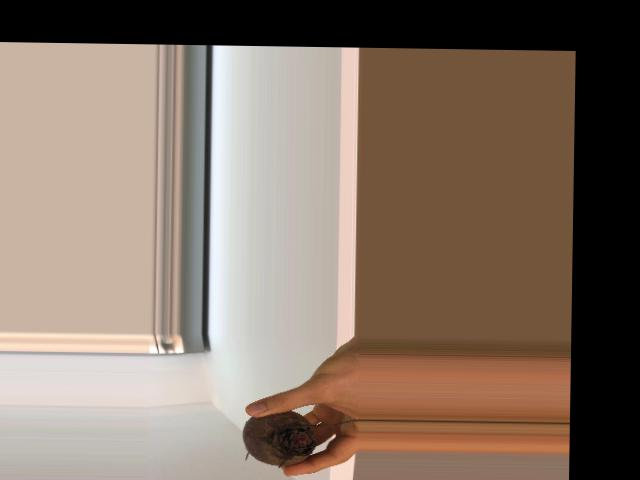beet: (241, 408, 358, 469)
